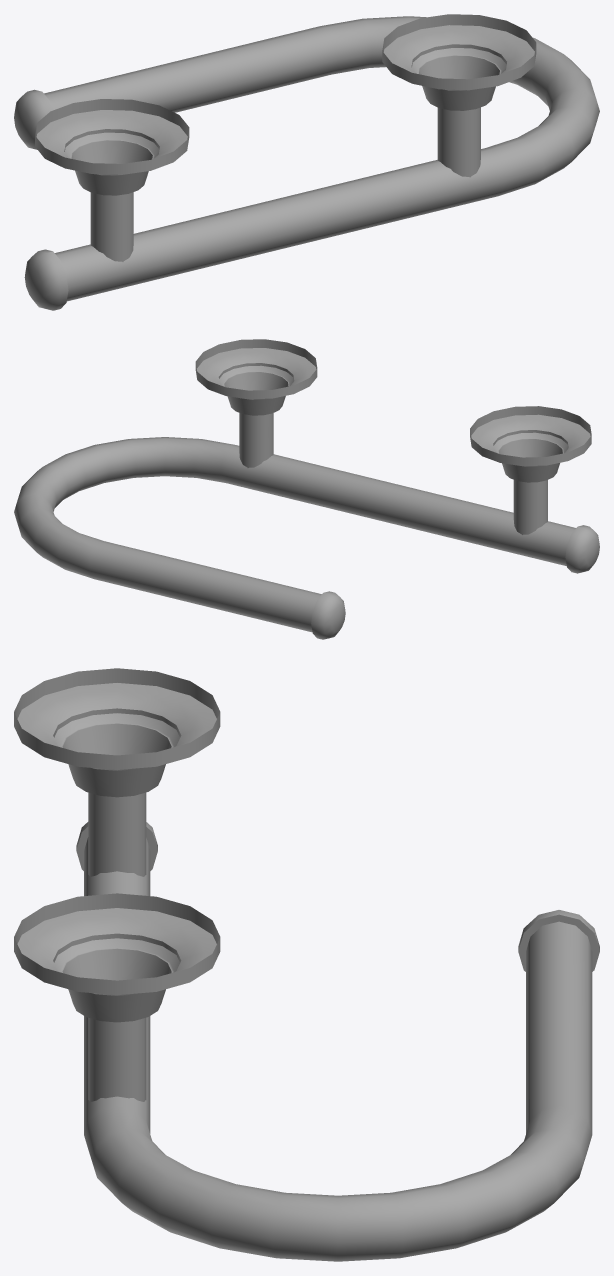
The model's file is ToiletPaperHanger_4_ToiletPaperHanger_4_0.obj.
The picture shows the model from 3 angles, top to bottom: view 1: azimuth 30°, elevation 25°; view 2: azimuth 150°, elevation 25°; view 3: azimuth 270°, elevation 25°; orthographic projection. The views are drawn at different scales.
Visible parts, largest first — view 1: ToiletPaperHanger_4; view 2: ToiletPaperHanger_4; view 3: ToiletPaperHanger_4.
Part boxes in pixels (x1=…): ToiletPaperHanger_4: x1=14, y1=14, x2=599, y2=310; ToiletPaperHanger_4: x1=14, y1=339, x2=599, y2=639; ToiletPaperHanger_4: x1=14, y1=668, x2=599, y2=1261.
Bounding box in the file's own units: 0.2849 × 0.0701 × 0.1738.
